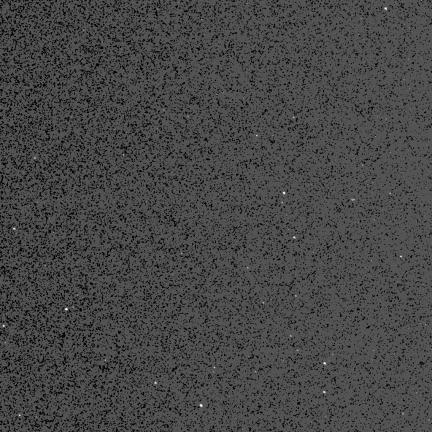blob: (200, 404, 203, 408), (324, 362, 327, 366), (65, 308, 68, 311)
